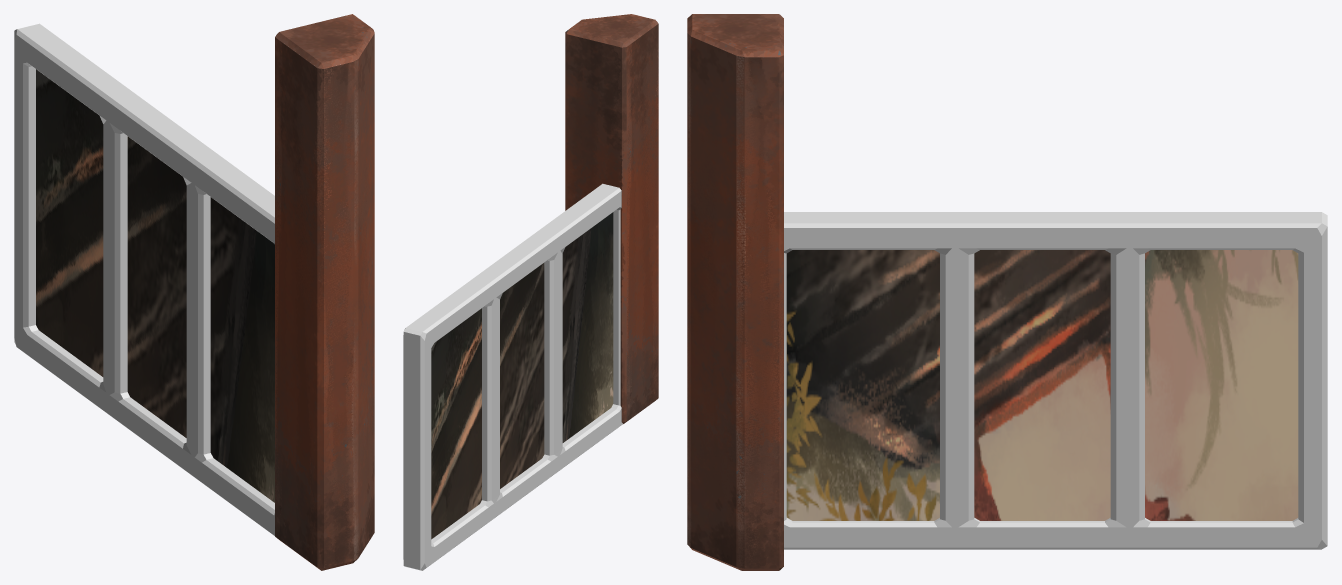
The picture shows the model from 3 angles, left to right: view 1: azimuth 30°, elevation 25°; view 2: azimuth 150°, elevation 25°; view 3: azimuth 270°, elevation 25°; orthographic projection. The views are drawn at different scales.
Parts seen in each view (by area): view 1: big_pillar_f2, wall_f2_Plane, Plane.003; view 2: wall_f2_Plane, Plane.003, big_pillar_f2; view 3: wall_f2_Plane, Plane.003, big_pillar_f2.
Boxes of the visible parts, x1,y1,x2,y2 form: big_pillar_f2: [275, 14, 374, 570]; wall_f2_Plane: [36, 69, 274, 502]; Plane.003: [14, 23, 274, 535]; wall_f2_Plane: [431, 212, 613, 539]; Plane.003: [403, 183, 622, 570]; big_pillar_f2: [565, 14, 658, 423]; wall_f2_Plane: [786, 250, 1298, 520]; Plane.003: [784, 212, 1327, 549]; big_pillar_f2: [687, 14, 783, 570].
Bounding box in the file's own units: 1465 × 8742 × 9701.
